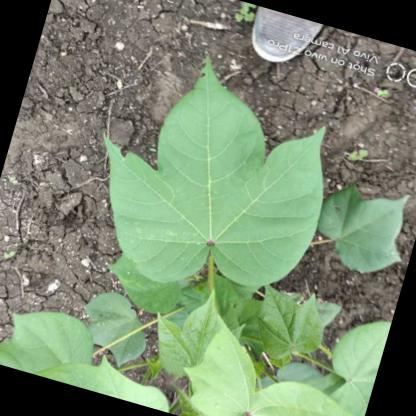cotton: (52, 32, 380, 335)
